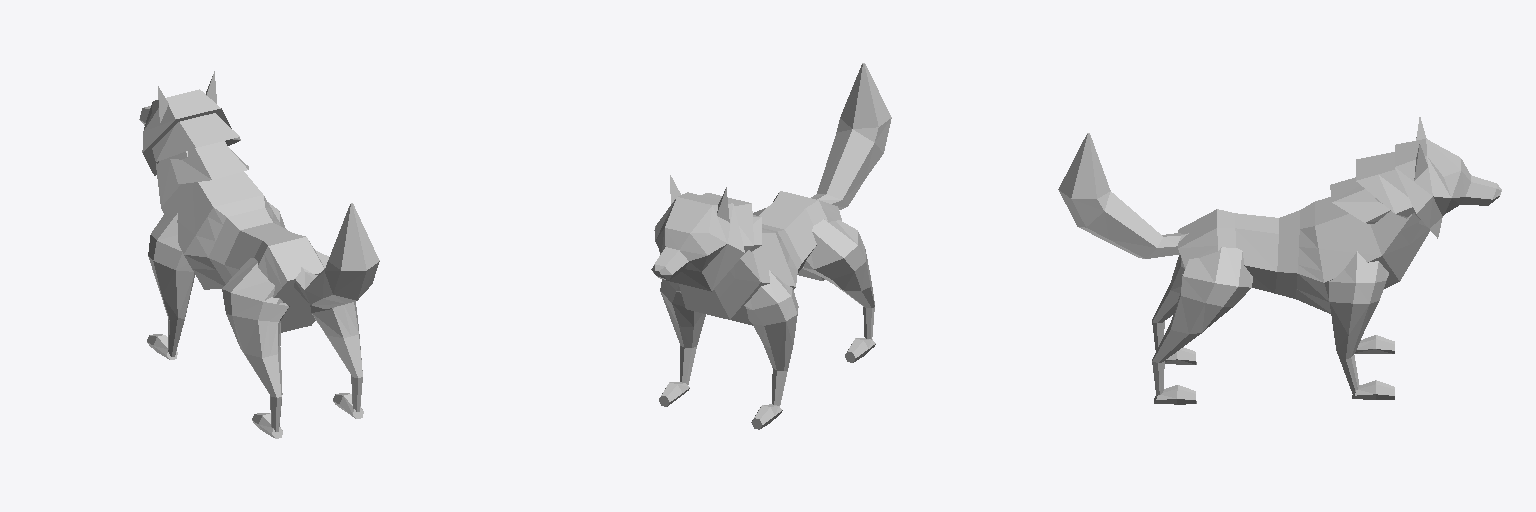
File: wolf.obj
3 views of the same model, side by side, from view 1: azimuth 30°, elevation 25°; view 2: azimuth 150°, elevation 25°; view 3: azimuth 270°, elevation 25° (orthographic).
Parts seen in each view (by area): view 1: Body_1_2_Untitled.008, Loft_1_2_Untitled, Tail_1_2_Untitled.005, Loft_1_4_Untitled.007, Loft_1_Untitled.006, Head_1_2_Untitled.004, Polygon_Untitled.003; view 2: Body_1_2_Untitled.008, Head_1_2_Untitled.004, Loft_1_Untitled.006, Tail_1_2_Untitled.005, Loft_1_2_Untitled, Loft_1_4_Untitled.007, Polygon_2_Untitled.002; view 3: Body_1_2_Untitled.008, Loft_1_2_Untitled, Tail_1_2_Untitled.005, Head_1_2_Untitled.004, Loft_1_Untitled.006, Loft_1_4_Untitled.007, Polygon_2_Untitled.002, Polygon_Untitled.003.
Part boxes in pixels (x1,y1,x2,y2): Body_1_2_Untitled.008: (156,141,324,332); Loft_1_2_Untitled: (222,250,362,431); Tail_1_2_Untitled.005: (294,203,379,308); Loft_1_4_Untitled.007: (152,113,248,183); Loft_1_Untitled.006: (148,202,285,356); Head_1_2_Untitled.004: (139,89,231,175); Polygon_Untitled.003: (252,393,363,438); Body_1_2_Untitled.008: (679,191,841,325); Head_1_2_Untitled.004: (651,192,744,291); Loft_1_Untitled.006: (660,270,798,405); Tail_1_2_Untitled.005: (811,63,891,209); Loft_1_2_Untitled: (753,208,874,339); Loft_1_4_Untitled.007: (701,193,761,252); Polygon_2_Untitled.002: (659,382,782,429); Body_1_2_Untitled.008: (1178,197,1429,313); Loft_1_2_Untitled: (1152,247,1252,396); Tail_1_2_Untitled.005: (1058,133,1188,258); Head_1_2_Untitled.004: (1395,139,1501,238); Loft_1_Untitled.006: (1329,251,1388,395); Loft_1_4_Untitled.007: (1330,152,1426,226); Polygon_2_Untitled.002: (1352,335,1394,399); Polygon_Untitled.003: (1154,347,1196,404).
Size of the model in its own units: 1.95 by 3.59 by 5.67.